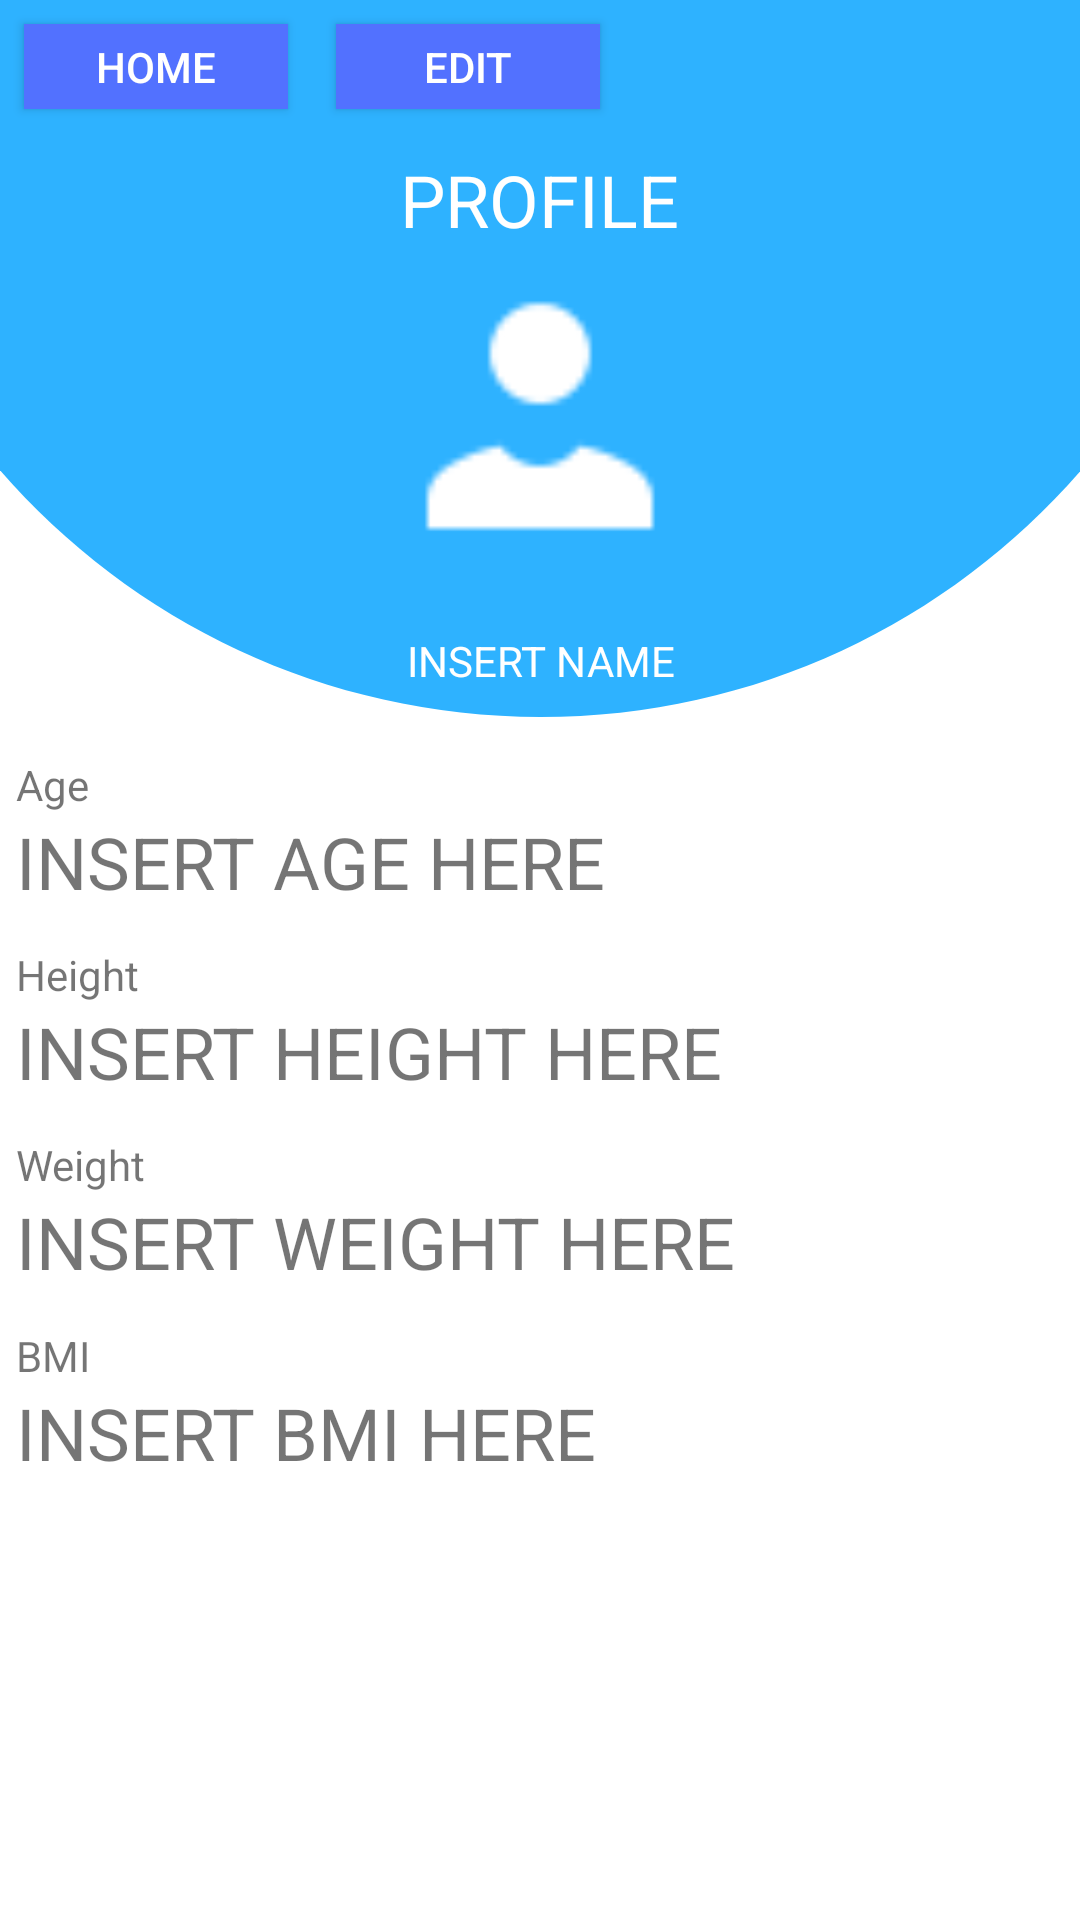

Where to tap for icons on this 1080px x 1920px app screen, as (x,y):
user: (540,416)
